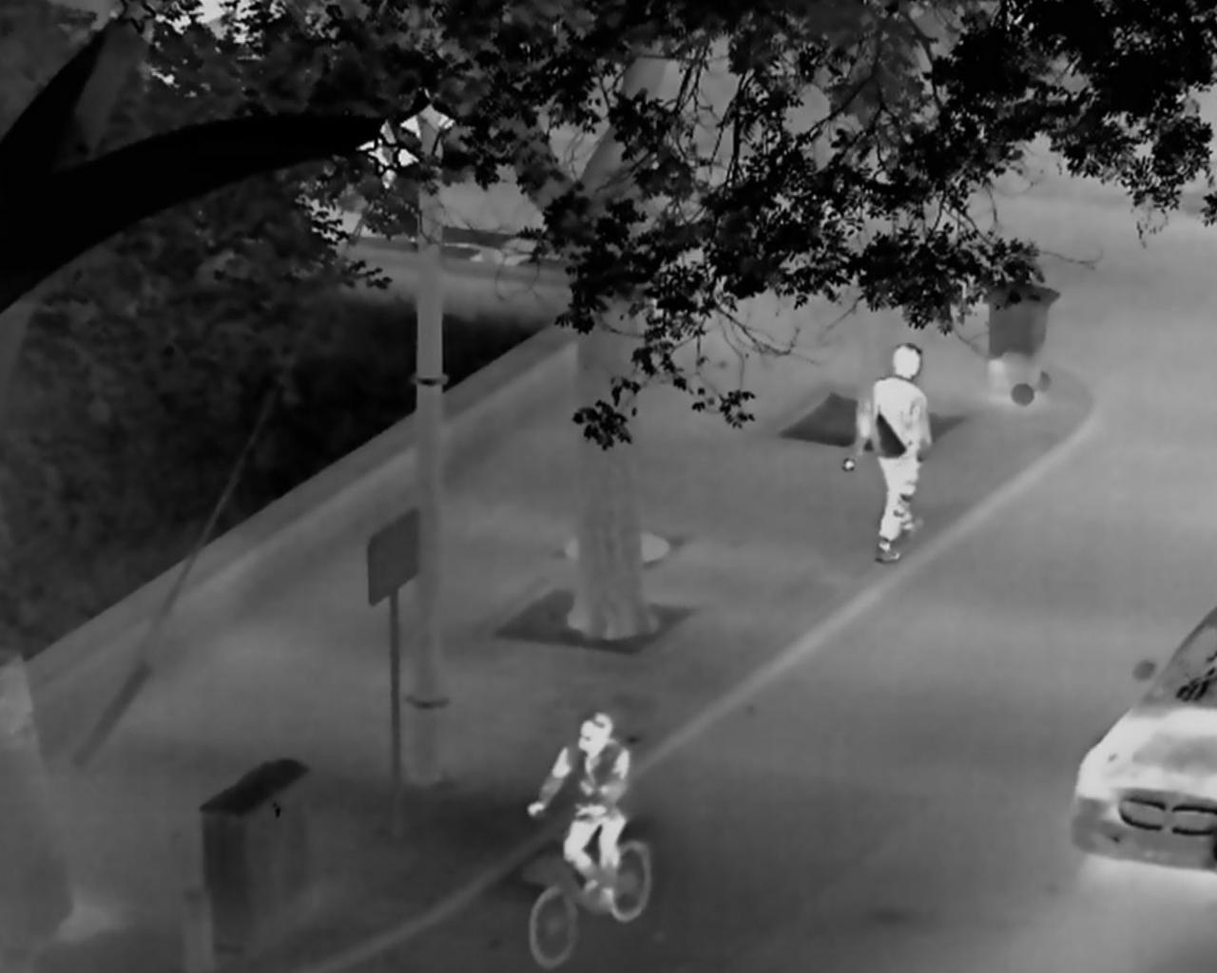person: (527, 711, 629, 910), (842, 343, 932, 563)
